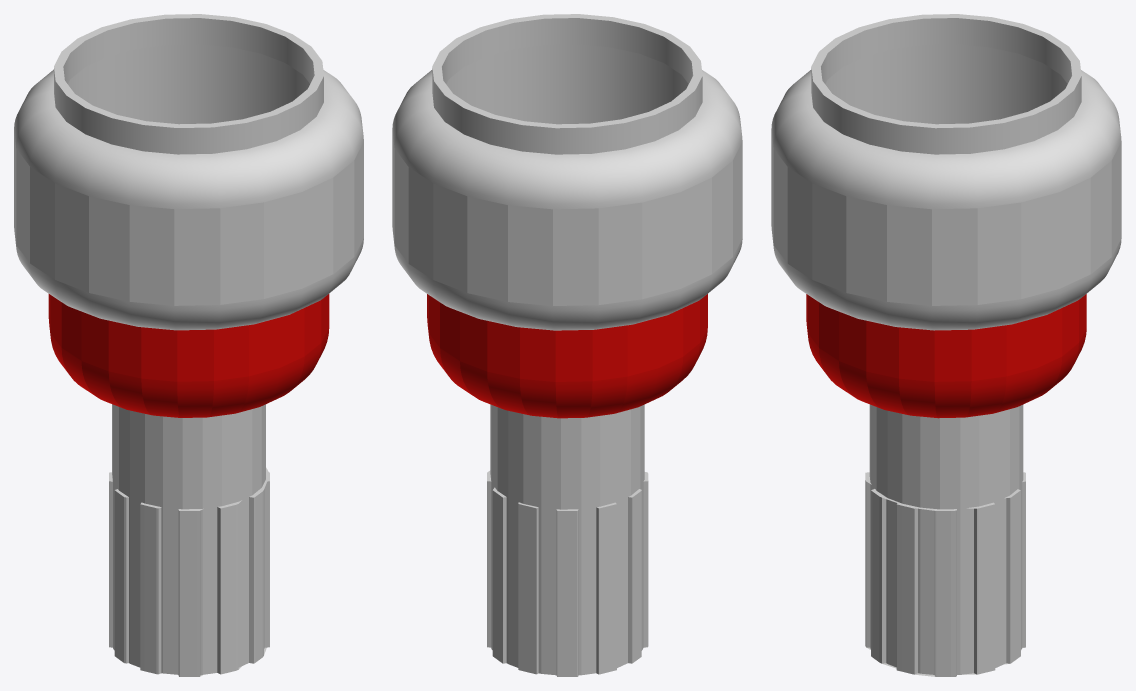
File: fix_scene 4c.fbx
3 views of the same model, side by side, from view 1: azimuth 30°, elevation 25°; view 2: azimuth 150°, elevation 25°; view 3: azimuth 270°, elevation 25° (orthographic).
Visible parts, largest first — view 1: 1.003, 1.004; view 2: 1.003, 1.004; view 3: 1.003, 1.004.
Part boxes in pixels (bbox=[...]): 1.003: bbox=[14, 14, 363, 676]; 1.004: bbox=[48, 294, 329, 417]; 1.003: bbox=[392, 14, 742, 676]; 1.004: bbox=[427, 294, 707, 418]; 1.003: bbox=[771, 14, 1121, 676]; 1.004: bbox=[806, 294, 1086, 418].
Size of the model in its own units: 153 by 276 by 153.
